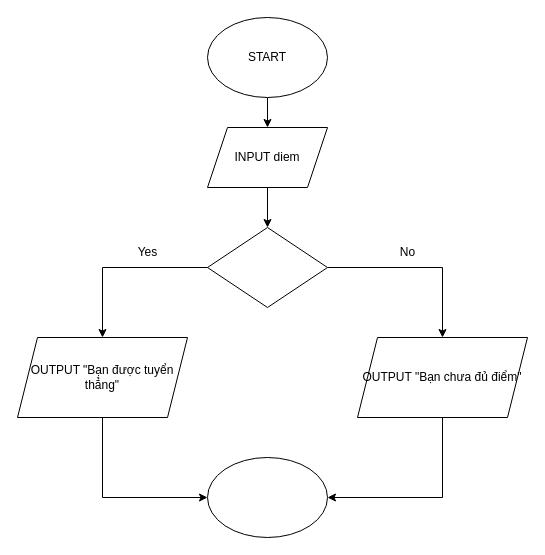
This 545x555 diagram has some shape labels left out. The centre of each missing label's shape, as x and y in pixels:
"diem >= 8.5" belongs at (x=267, y=267).
"END" belongs at (x=267, y=497).
